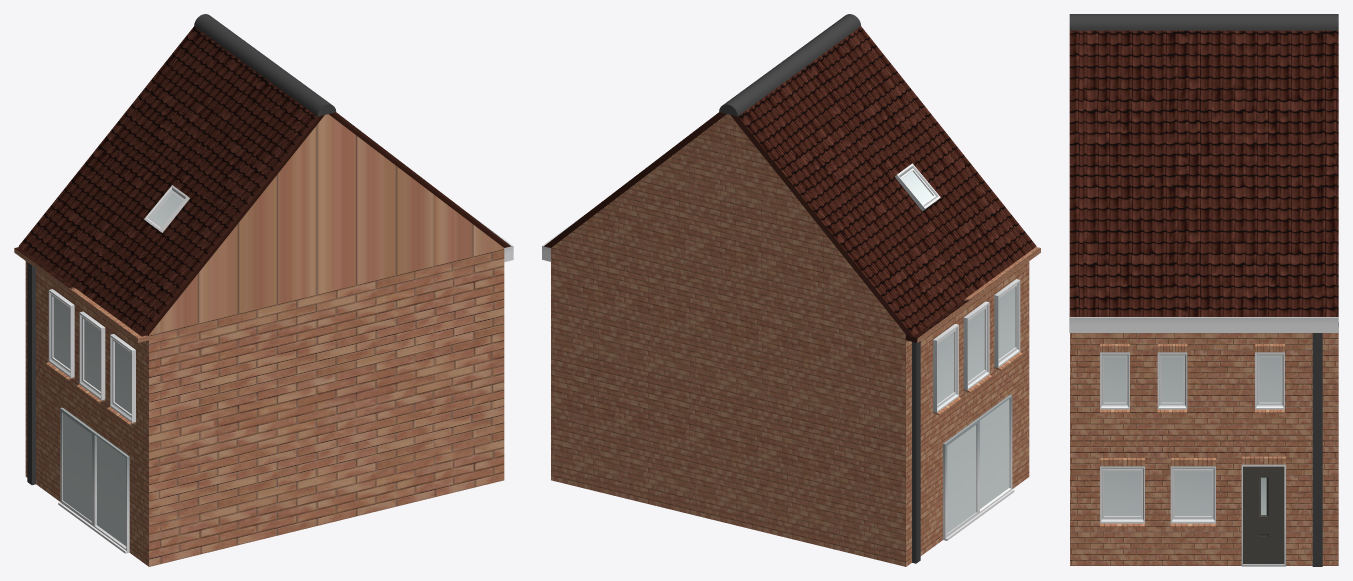
File: It stee 8.fbx
The picture shows the model from 3 angles, left to right: view 1: azimuth 30°, elevation 25°; view 2: azimuth 150°, elevation 25°; view 3: azimuth 270°, elevation 25°; orthographic projection. The views are drawn at different scales.
Parts seen in each view (by area): view 1: It_Heafek_14; view 2: It_Heafek_14; view 3: It_Heafek_14.
Boxes of the visible parts, bbox=[...] form: It_Heafek_14: bbox=[14, 14, 513, 566]; It_Heafek_14: bbox=[542, 14, 1040, 566]; It_Heafek_14: bbox=[1069, 14, 1338, 566].
Size of the model in its own units: 1002 by 1069 by 571.
